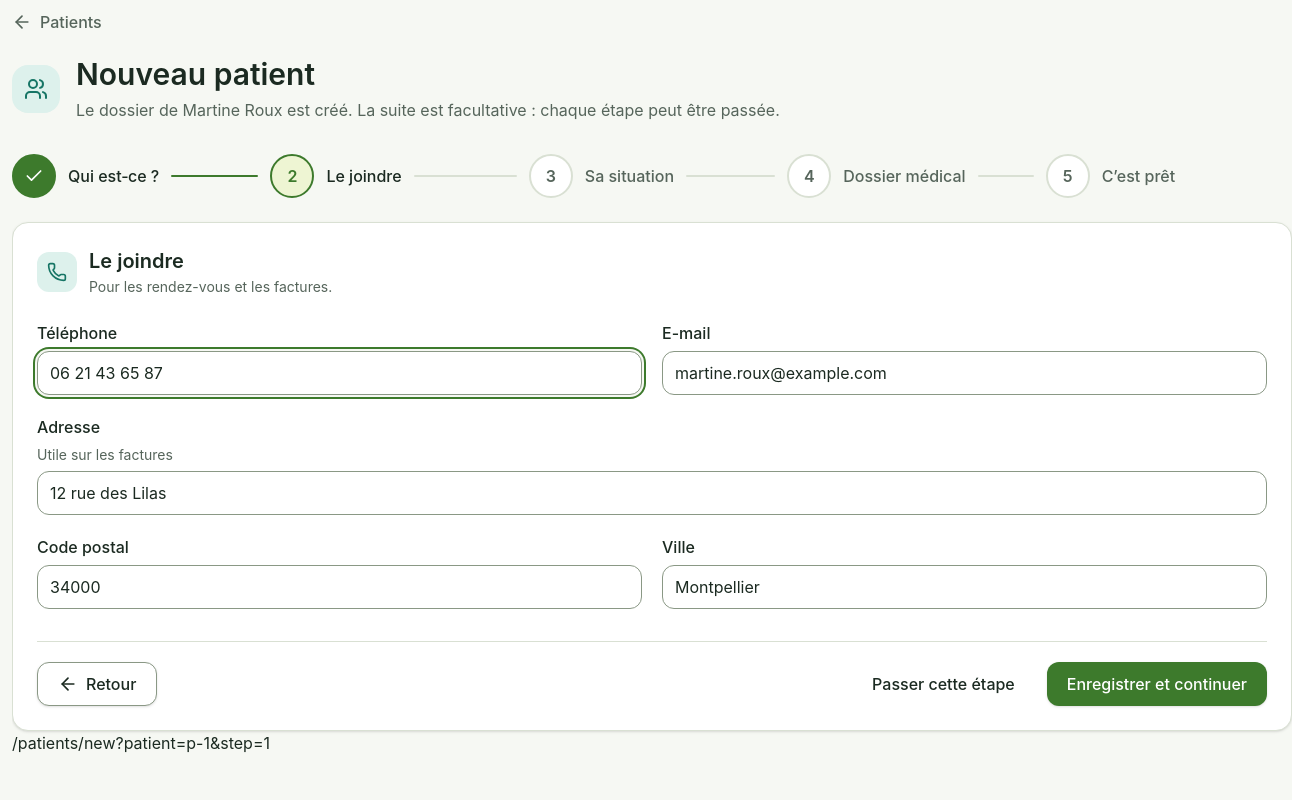
Test case: PatientNewPage (new patient wizard) › resumes a patient created earlier from the address
Expected: the field labelled "Téléphone" holds "06 21 43 65 87", top-left (37, 350), bottom-right (642, 394)
Click the button "Passer cette étape": (943, 684) top-left (852, 662), bottom-right (1035, 706)
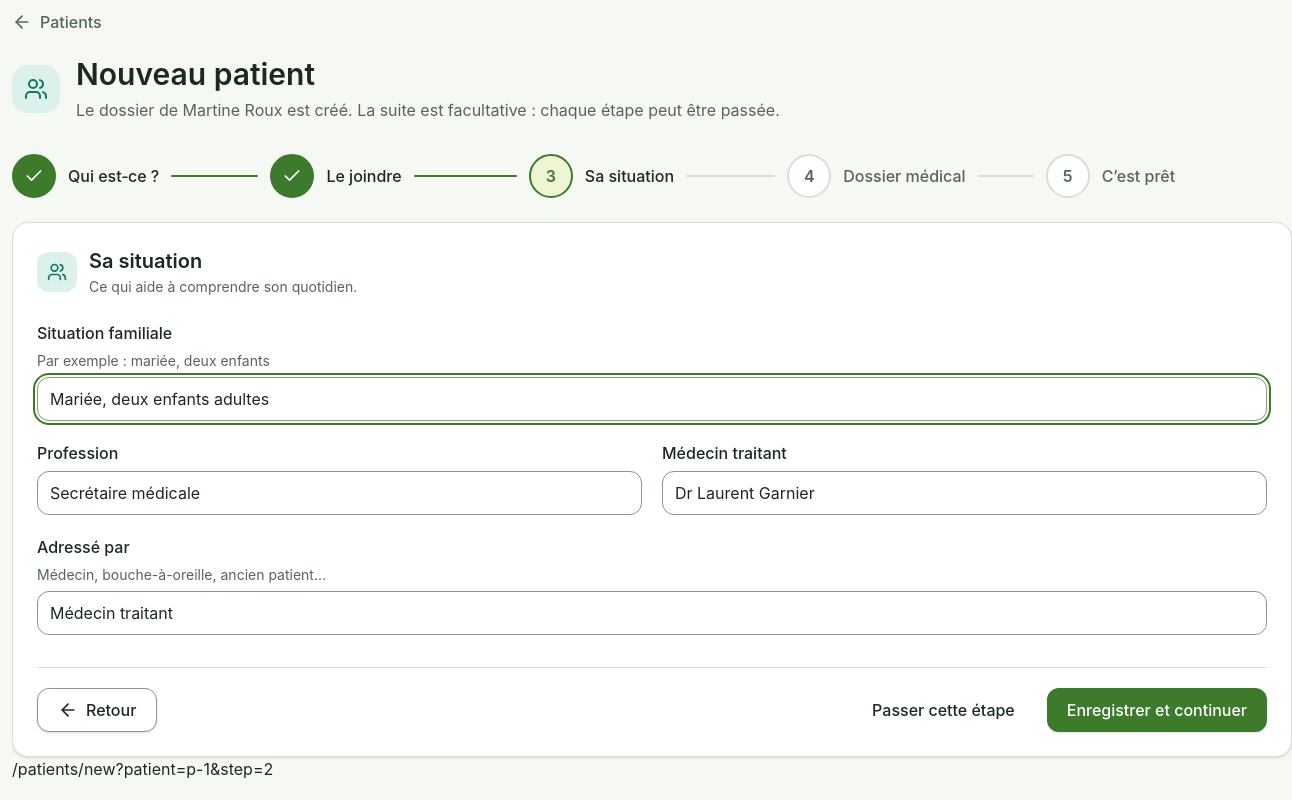
Expected: the field labelled "Médecin traitant" holds "Dr Laurent Garnier", top-left (662, 470), bottom-right (1267, 514)
